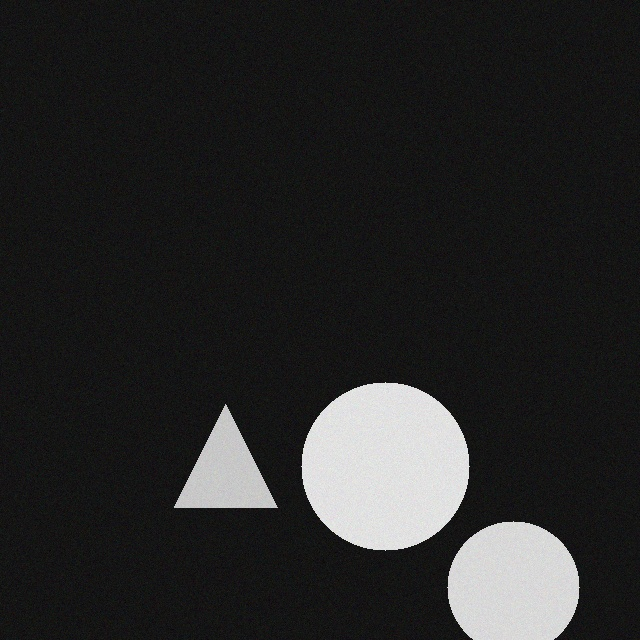circle: (293, 368, 461, 536), (439, 507, 571, 639)
triangle: (166, 390, 269, 493)
